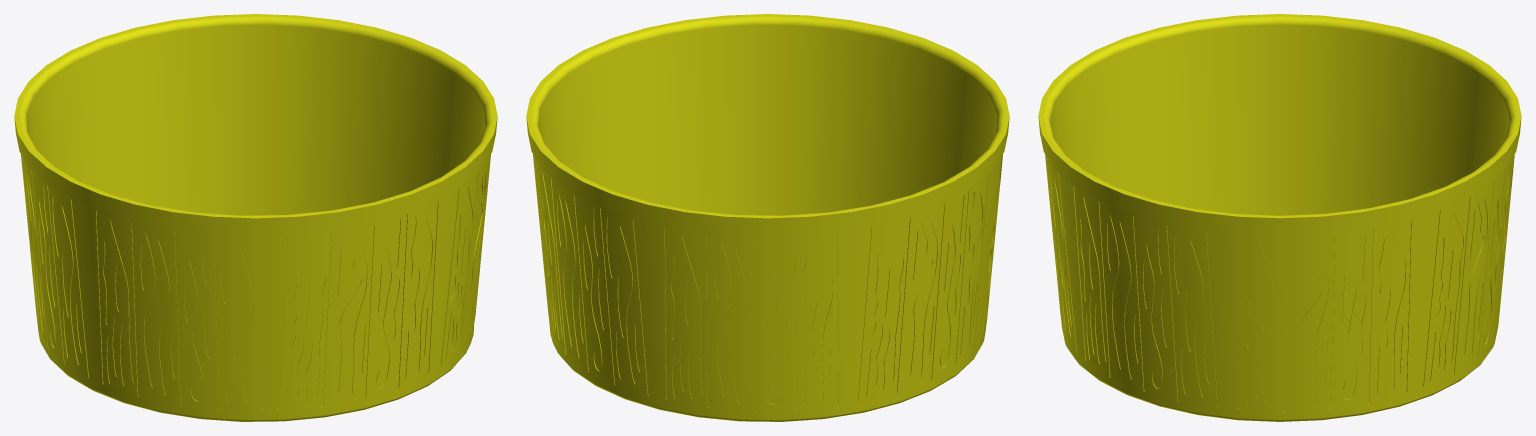
File: PART 21 TUB.fbx
3 renders of one model, left to right at view 1: azimuth 30°, elevation 25°; view 2: azimuth 150°, elevation 25°; view 3: azimuth 270°, elevation 25°, orthographic.
Visible parts, largest first — view 1: PART 21 TUB; view 2: PART 21 TUB; view 3: PART 21 TUB.
Part boxes in pixels (x1=…): PART 21 TUB: x1=14, y1=14, x2=497, y2=421; PART 21 TUB: x1=526, y1=14, x2=1009, y2=421; PART 21 TUB: x1=1038, y1=14, x2=1521, y2=421.
Size of the model in its own units: 7.75 by 3.81 by 7.75.
